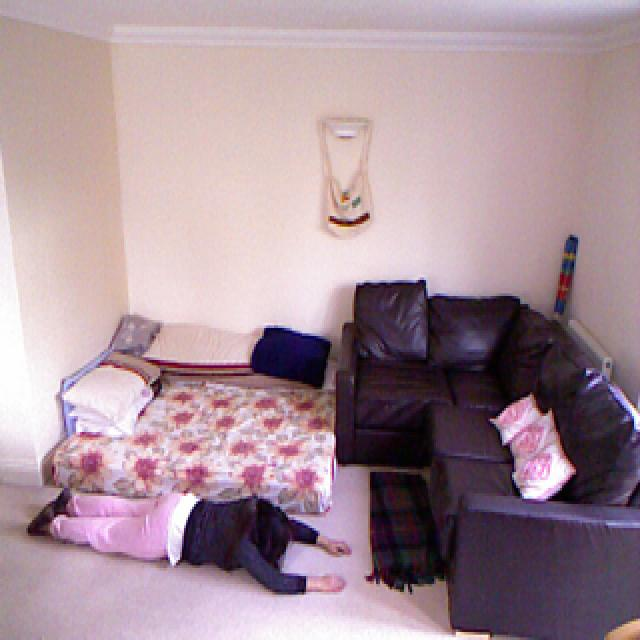lying: (27, 510, 346, 572)
